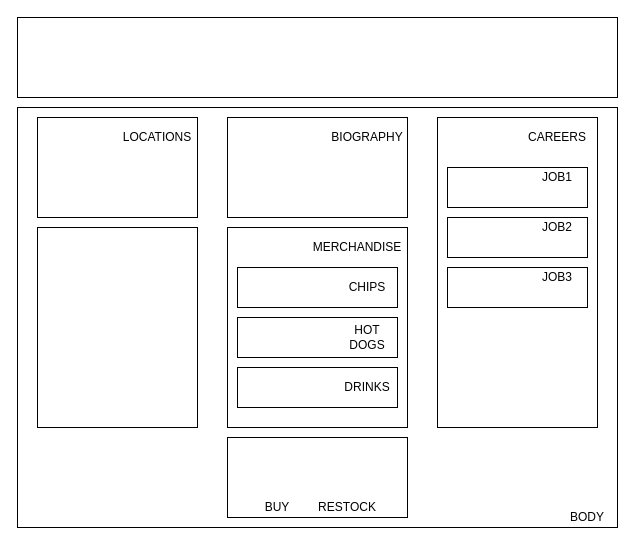
Some shapes in this 635 by 553 pixel diagram are drawn without their labels. The box of each missing label's shape, as (x1, y1, x2, y2) in pixels:
ADMIN STUFF // HIDDEN?: (226, 436, 408, 518)
CONTACT INFO: (36, 226, 198, 428)
NAVBAR: (16, 16, 618, 98)
